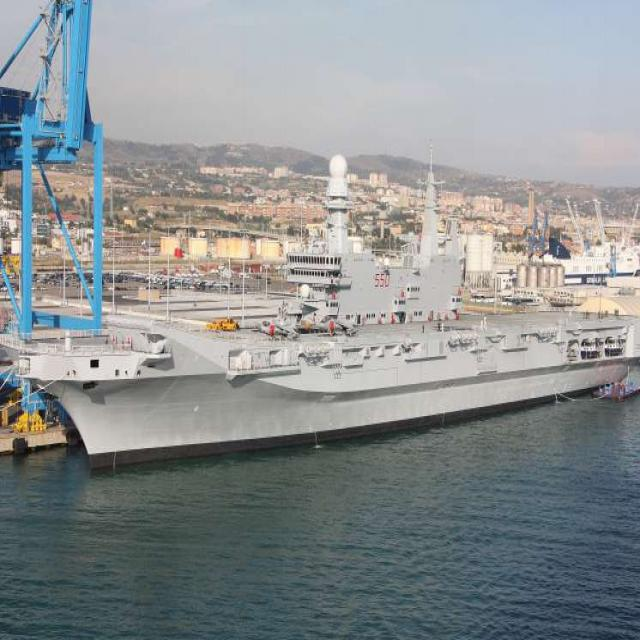Portanaves: (8, 132, 640, 482)
